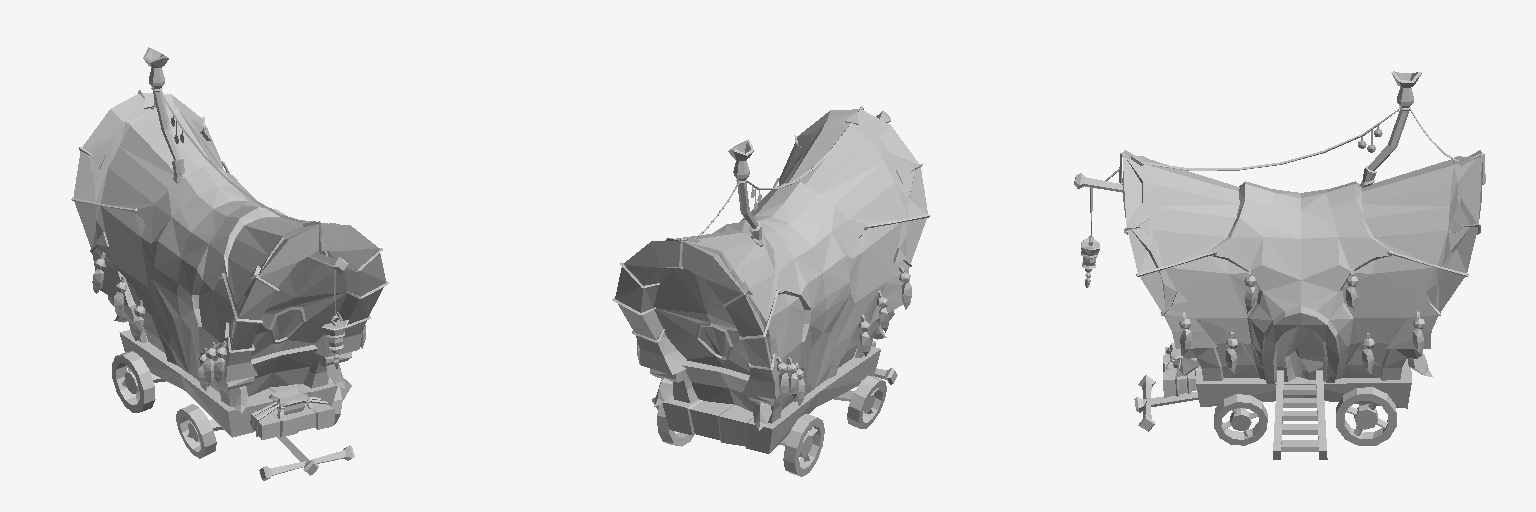
The model's file is 8vp_vulpera_cart01.obj.
3 renders of one model, left to right at view 1: azimuth 30°, elevation 25°; view 2: azimuth 150°, elevation 25°; view 3: azimuth 270°, elevation 25°, orthographic.
Visible parts, largest first — view 1: 8VP_Vulpera_Cart01; view 2: 8VP_Vulpera_Cart01; view 3: 8VP_Vulpera_Cart01.
Part boxes in pixels (left/top/right/bottom): 8VP_Vulpera_Cart01: left=71, top=47, right=388, bottom=480; 8VP_Vulpera_Cart01: left=612, top=106, right=930, bottom=476; 8VP_Vulpera_Cart01: left=1074, top=71, right=1485, bottom=459.
Bounding box in the file's own units: 5.49 × 9.43 × 10.55.